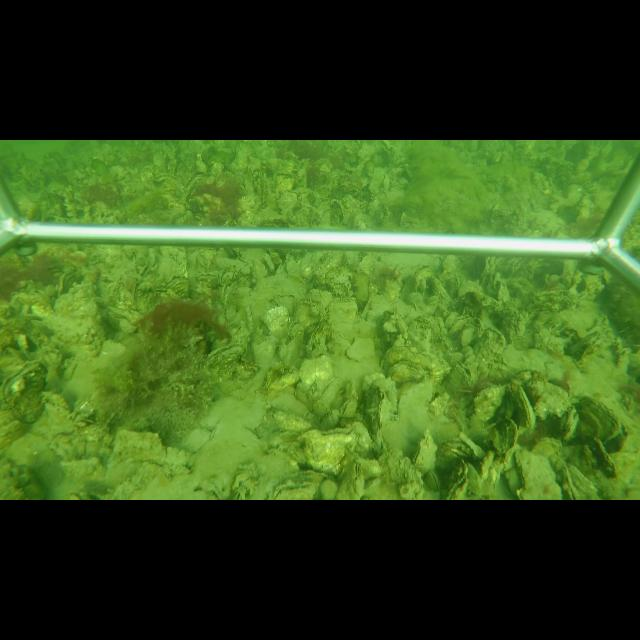Oyster-Closed: (302, 426, 357, 471), (515, 448, 562, 499), (576, 395, 621, 441), (525, 378, 572, 419), (472, 384, 507, 425), (564, 463, 598, 498), (368, 385, 390, 439), (326, 298, 358, 334), (299, 354, 335, 385), (205, 342, 243, 371), (278, 322, 303, 366), (594, 437, 617, 480), (492, 418, 519, 454), (516, 384, 536, 430), (388, 360, 423, 384), (446, 460, 468, 498), (319, 379, 340, 410), (426, 470, 441, 491)
